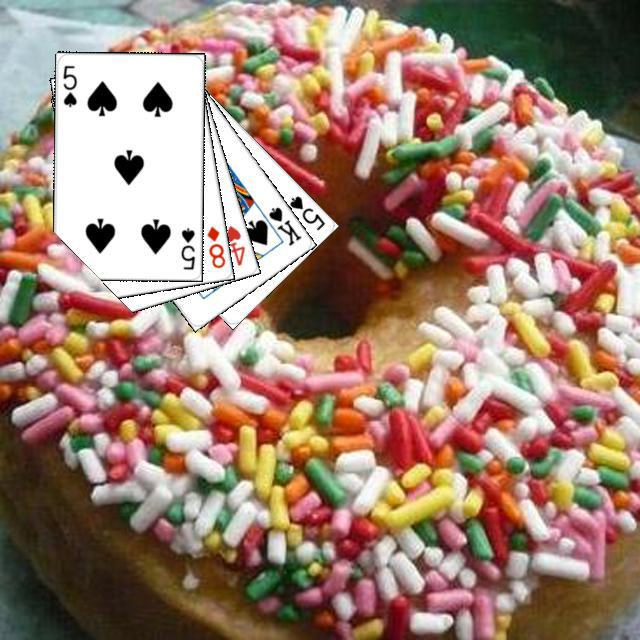4h: (221, 220, 247, 268)
5s: (285, 191, 327, 232), (58, 61, 79, 108), (176, 223, 196, 271)
8d: (202, 221, 227, 270)
Ks: (263, 202, 303, 248)
